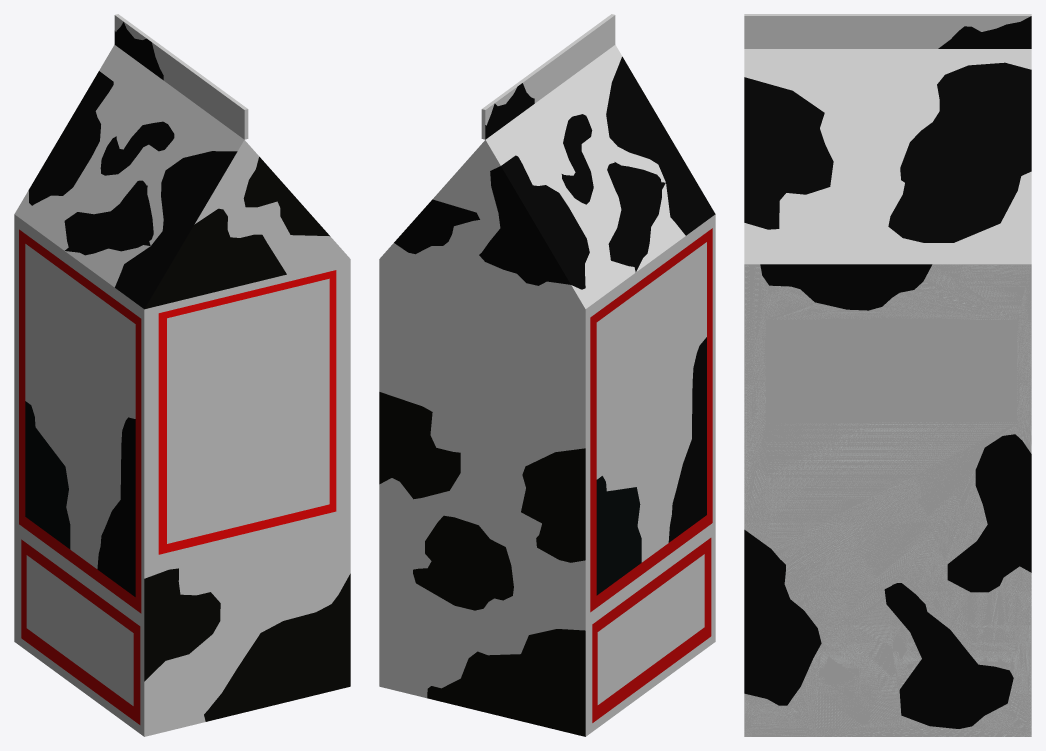
3 renders of one model, left to right at view 1: azimuth 30°, elevation 25°; view 2: azimuth 150°, elevation 25°; view 3: azimuth 270°, elevation 25°, orthographic. The views are drawn at different scales.
Visible parts, largest first — view 1: SketchUp (×18); view 2: SketchUp (×18); view 3: SketchUp (×10).
Part boxes in pixels (bbox=[...]): SketchUp (×18): bbox=[14, 14, 350, 736]; SketchUp (×18): bbox=[379, 14, 715, 736]; SketchUp (×10): bbox=[744, 14, 1031, 736].
Bounding box in the file's own units: 4.58 × 5 × 12.79.
